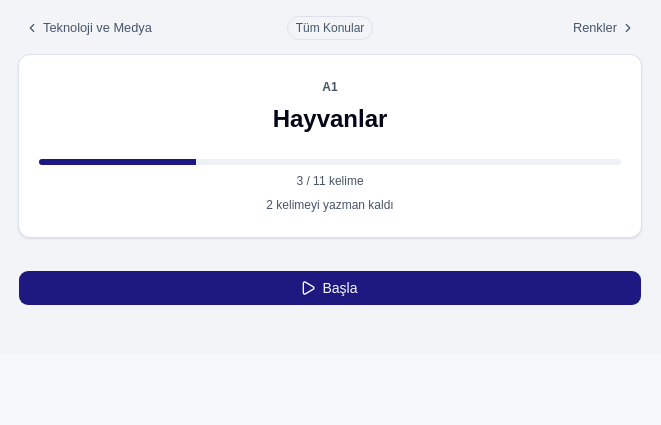
Scenario: StudyHomePage › falls back to the generic error when a conflict has no recognized code
Click the button "Başla".
click(330, 288)  # box x1=18 y1=270 x2=642 y2=306
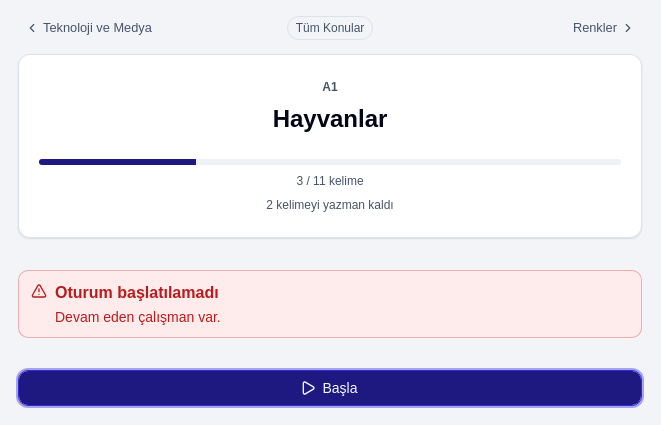
Now the message shows "Oturum başlatılamadı", box x1=55 y1=284 x2=219 y2=301
